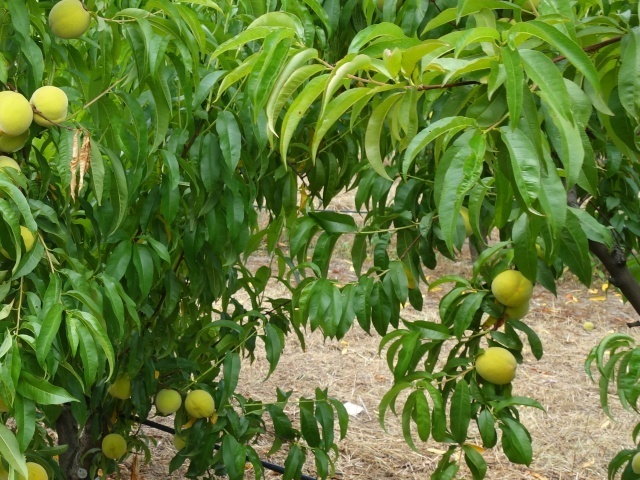peach: (474, 340, 520, 392), (24, 84, 73, 131), (41, 1, 95, 39), (489, 264, 534, 308), (1, 88, 36, 138), (180, 387, 218, 422), (103, 365, 137, 403), (1, 118, 34, 155), (153, 384, 184, 417), (500, 293, 533, 324), (99, 430, 129, 463), (13, 459, 50, 479), (169, 428, 194, 457)
